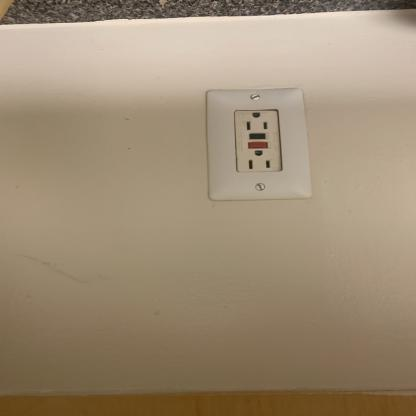OUTLET: (206, 88, 304, 202)
